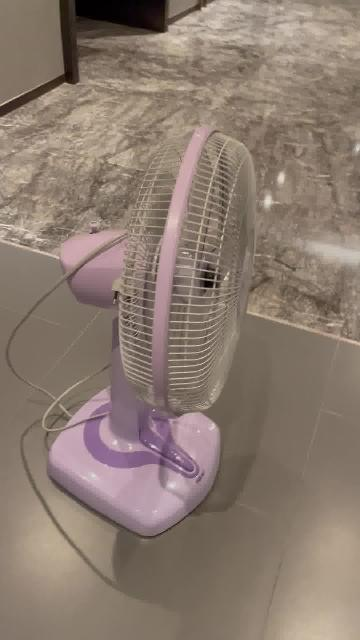Fan: (47, 126, 257, 539)
